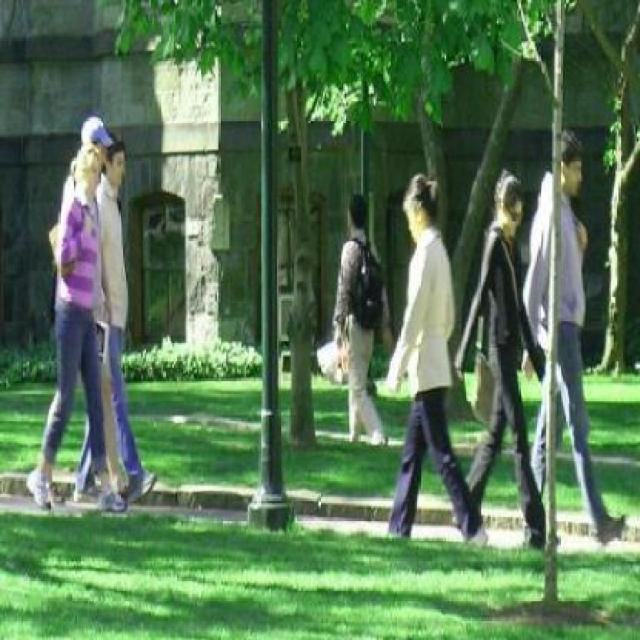Person: (525, 131, 630, 563), (385, 164, 469, 565), (465, 164, 537, 556), (38, 144, 111, 514), (314, 183, 392, 448), (102, 121, 147, 505)
